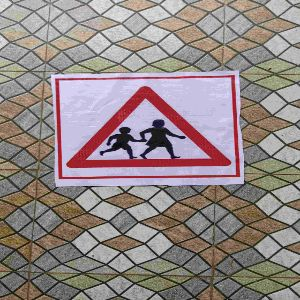schools: (58, 83, 238, 178)
